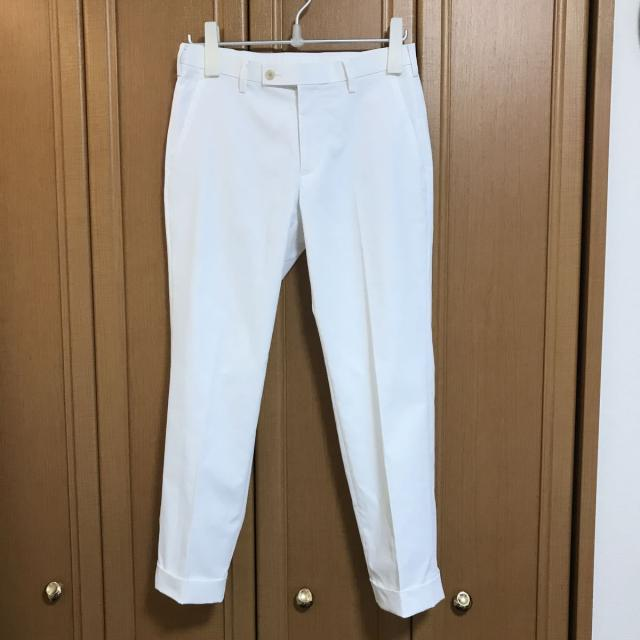long-pants: (152, 38, 446, 619)
